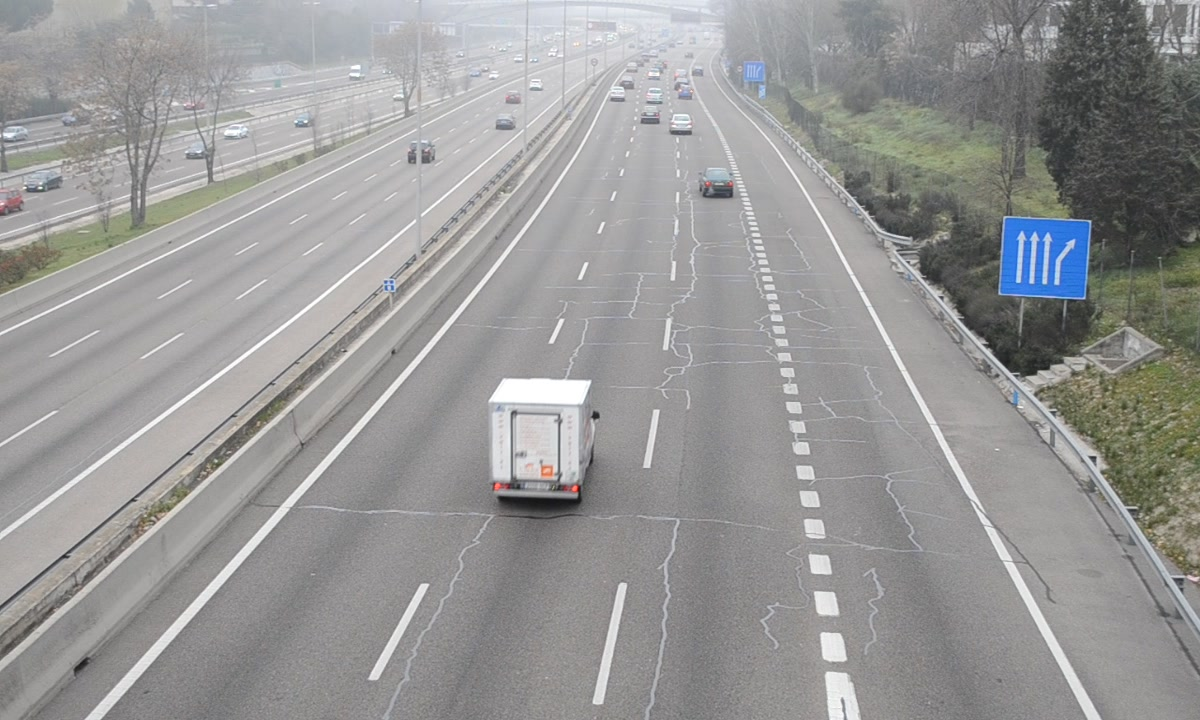car: (701, 165, 736, 196)
small-truck: (490, 378, 599, 505)
